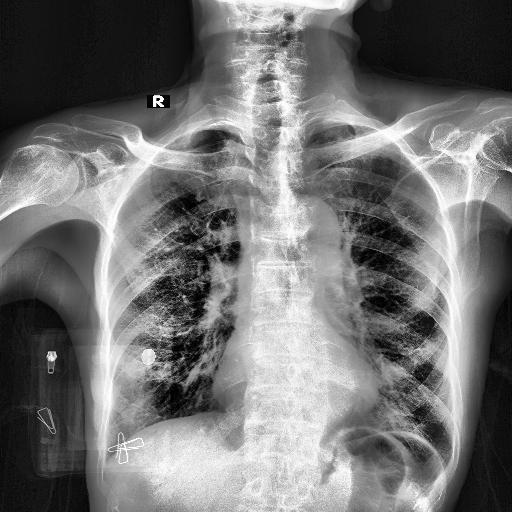0- Aortic enlargement: (273, 194, 341, 248), (281, 196, 341, 256), (292, 194, 340, 252)
11- Pleural thickening: (167, 132, 221, 148)
13- Pulmonary fibrosis: (143, 310, 201, 338), (184, 357, 204, 395), (196, 196, 204, 200)
9- Other lesion: (342, 423, 450, 465)
